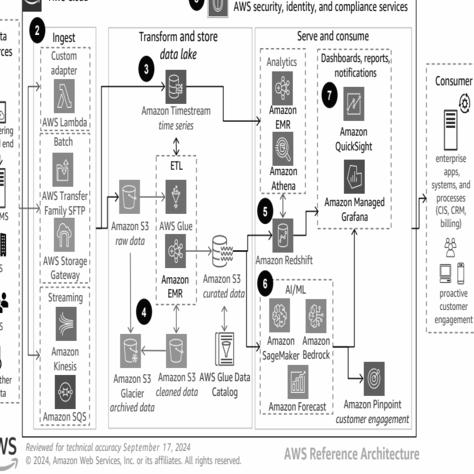actor: (438, 253, 469, 314), (438, 146, 469, 206), (0, 99, 13, 130), (0, 176, 13, 207), (0, 237, 13, 268), (0, 288, 13, 319), (0, 350, 13, 381)
compute: (48, 68, 80, 110), (48, 304, 80, 345), (269, 68, 300, 110), (340, 84, 372, 124), (340, 156, 372, 196), (269, 130, 300, 171), (284, 360, 315, 401), (356, 360, 387, 401), (162, 171, 192, 212), (162, 232, 192, 273), (208, 330, 238, 370), (264, 294, 294, 334), (300, 294, 330, 334), (48, 376, 80, 406)
data_flow: (325, 314, 356, 381), (310, 176, 341, 227), (36, 64, 41, 370), (304, 109, 336, 146), (100, 89, 110, 207), (256, 248, 272, 298), (192, 202, 208, 242), (123, 216, 128, 330), (238, 233, 269, 248), (174, 268, 180, 330), (110, 87, 171, 92), (221, 274, 226, 324), (282, 170, 287, 206), (238, 87, 269, 92), (407, 220, 438, 224), (18, 204, 38, 209), (90, 204, 110, 209), (141, 189, 161, 194), (42, 168, 56, 174), (141, 348, 161, 352), (42, 87, 56, 92), (42, 235, 56, 240), (42, 322, 56, 327)
database_storage: (269, 206, 300, 248), (110, 171, 141, 212), (162, 68, 192, 110), (110, 330, 141, 370), (208, 232, 238, 273), (162, 330, 192, 370)
network_security: (48, 150, 80, 192), (48, 217, 80, 258), (141, 0, 295, 6)
trust_boundary: (26, 0, 410, 429), (253, 46, 408, 430), (100, 46, 243, 430), (38, 46, 90, 430), (428, 43, 474, 350), (256, 286, 333, 414), (0, 0, 18, 401), (156, 145, 197, 299)
